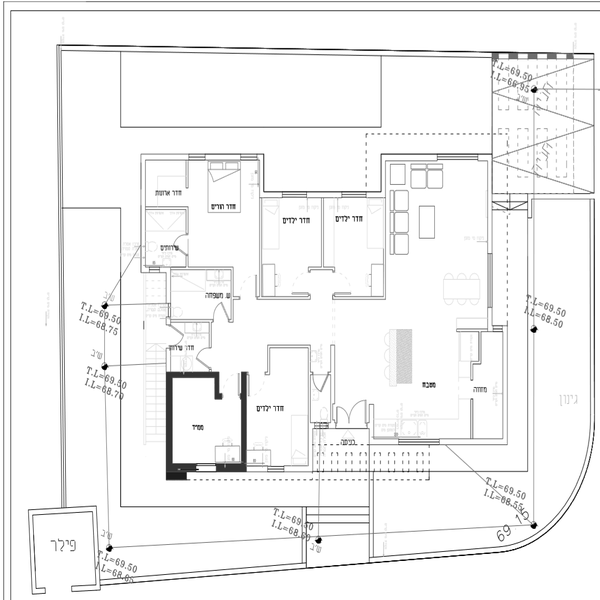door: (330, 398, 372, 429), (188, 344, 219, 367), (312, 371, 337, 396), (166, 316, 185, 348), (206, 301, 231, 325), (167, 232, 193, 252)
room: (380, 155, 498, 326), (368, 319, 510, 443), (254, 189, 386, 299), (139, 154, 263, 265), (246, 343, 316, 474), (165, 369, 247, 474), (161, 262, 235, 324)
